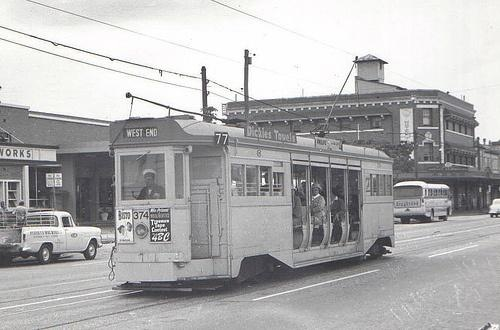bus: (394, 181, 455, 226)
car: (1, 206, 104, 270)
